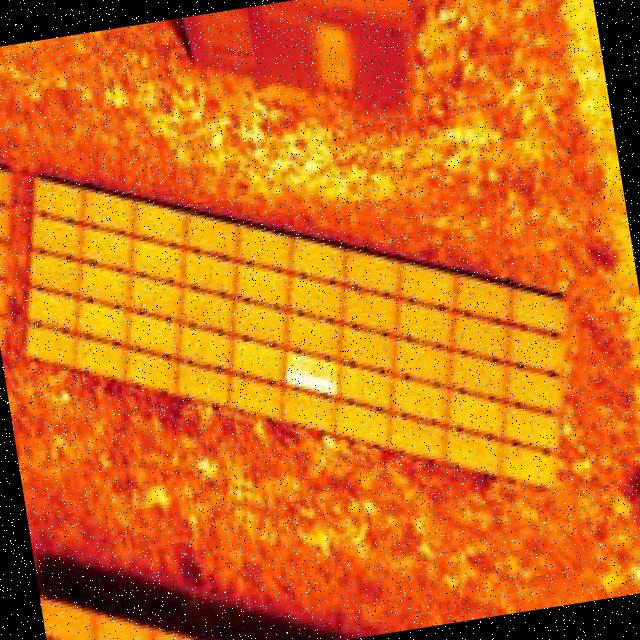Hotspot: (282, 359, 342, 406)
